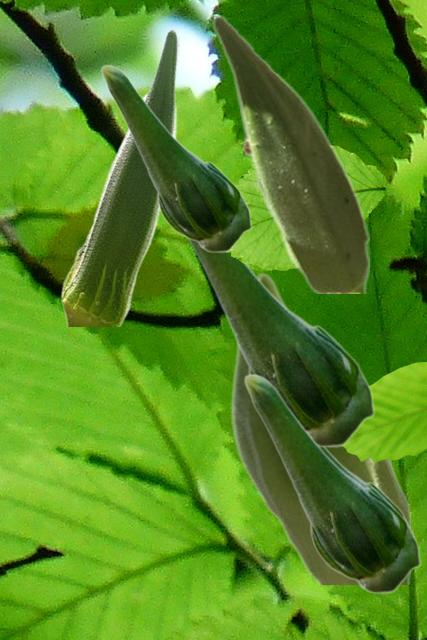okra: (230, 272, 409, 583), (211, 13, 368, 292), (184, 238, 374, 447), (243, 373, 420, 593), (60, 27, 178, 325), (100, 64, 251, 252), (323, 448, 414, 533)
